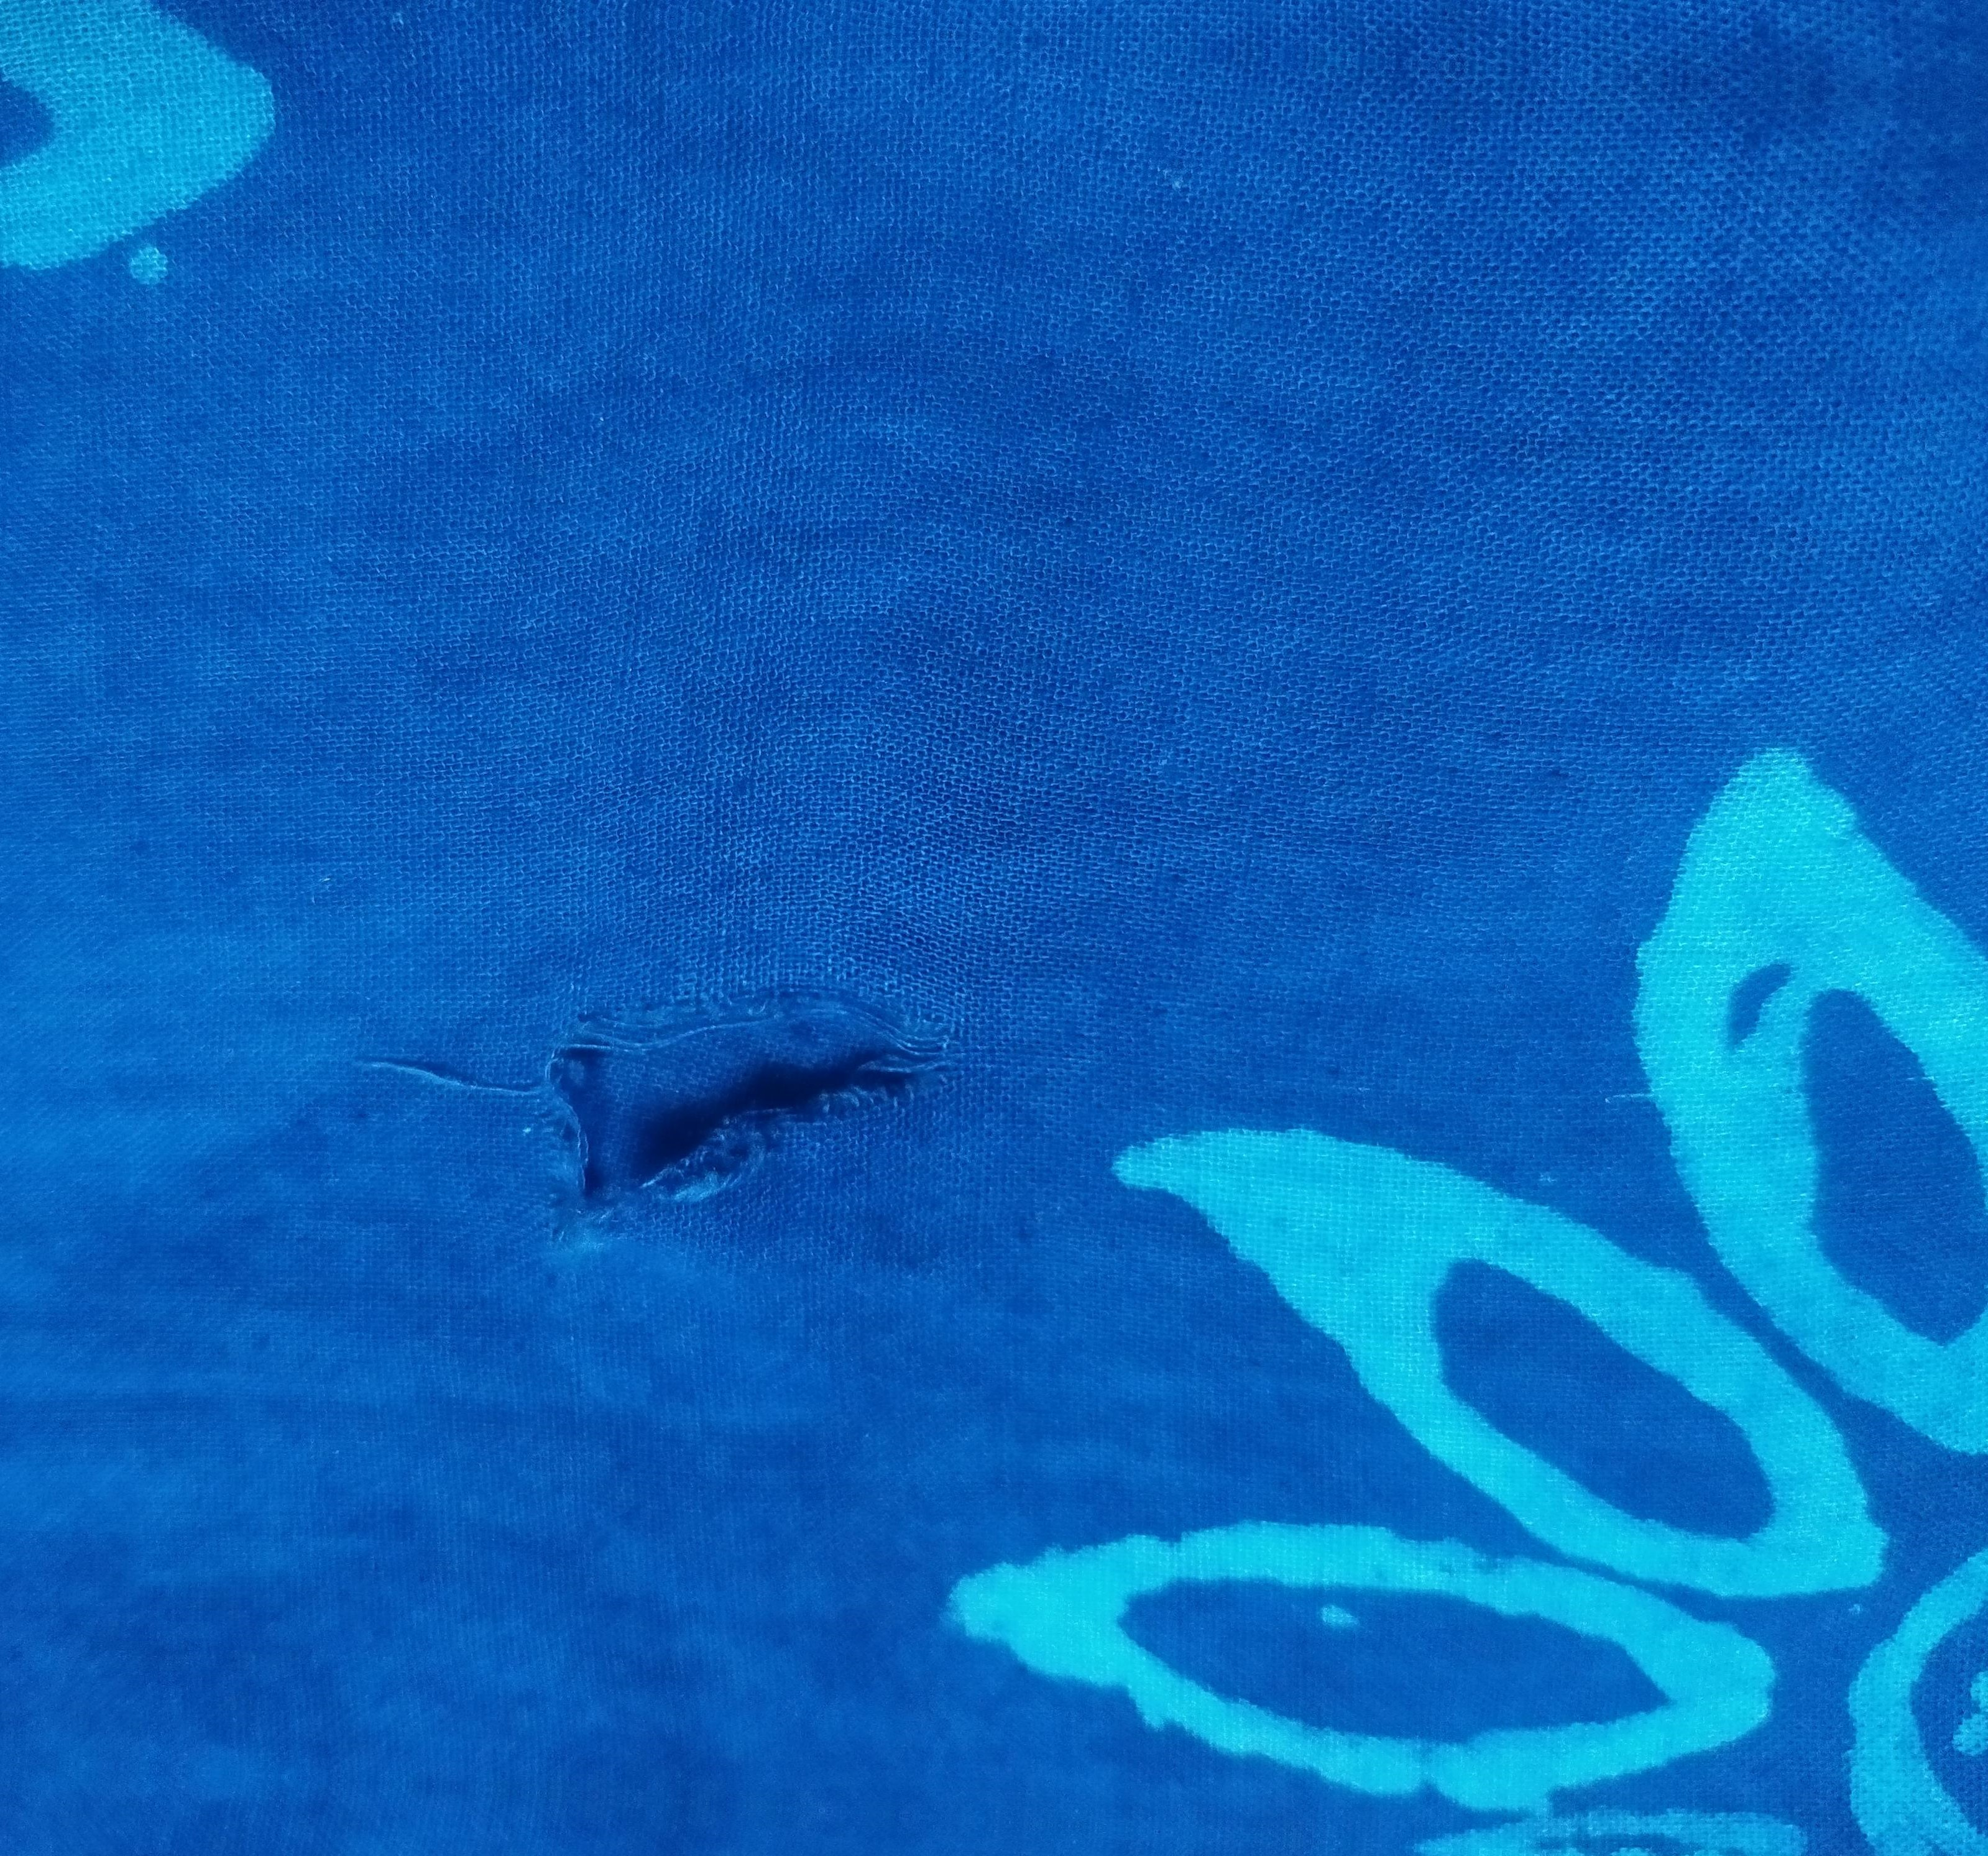hole: (516, 956, 980, 1245)
